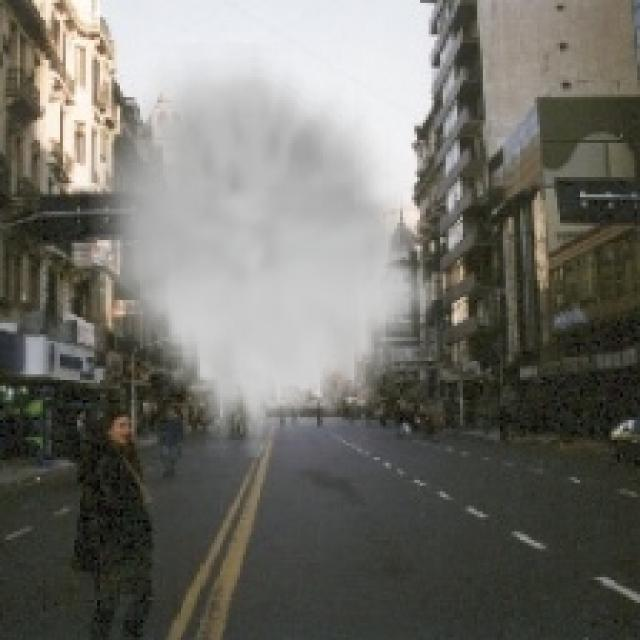smoke: (89, 43, 432, 457)
